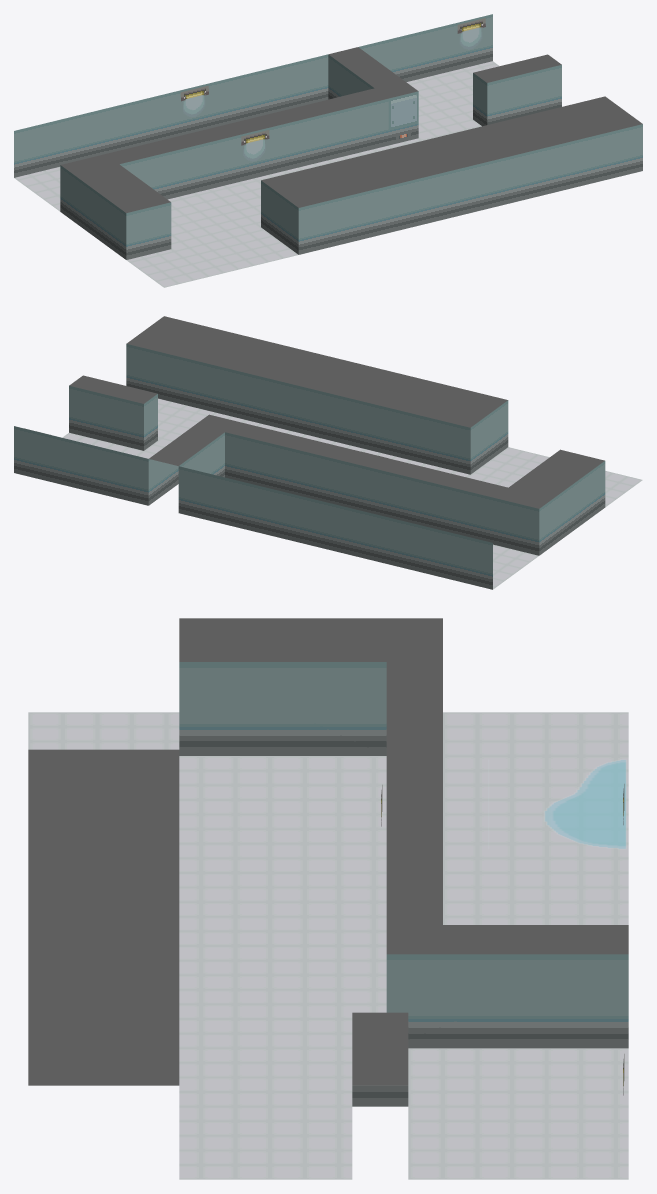
File: GALHQ9-1.obj
3 renders of one model, top to bottom at view 1: azimuth 30°, elevation 25°; view 2: azimuth 150°, elevation 25°; view 3: azimuth 270°, elevation 25°, orthographic. The views are drawn at different scales.
Visible parts, largest first — view 1: m_dun2605_01_00c; view 2: m_dun2605_01_00c; view 3: m_dun2605_01_00c.
Part boxes in pixels (box(x1,y1,x2,y2)): m_dun2605_01_00c: box(14, 14, 642, 287); m_dun2605_01_00c: box(14, 316, 642, 589); m_dun2605_01_00c: box(28, 618, 628, 1179).
Size of the model in its own units: 512 by 48 by 278.
